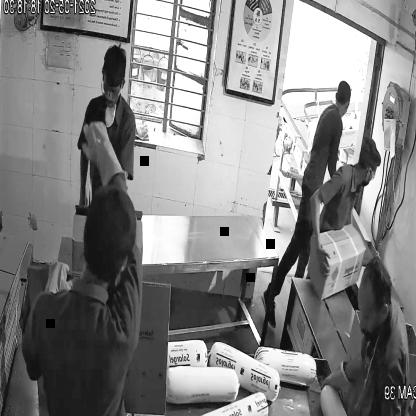goggles: (100, 76, 126, 100)
